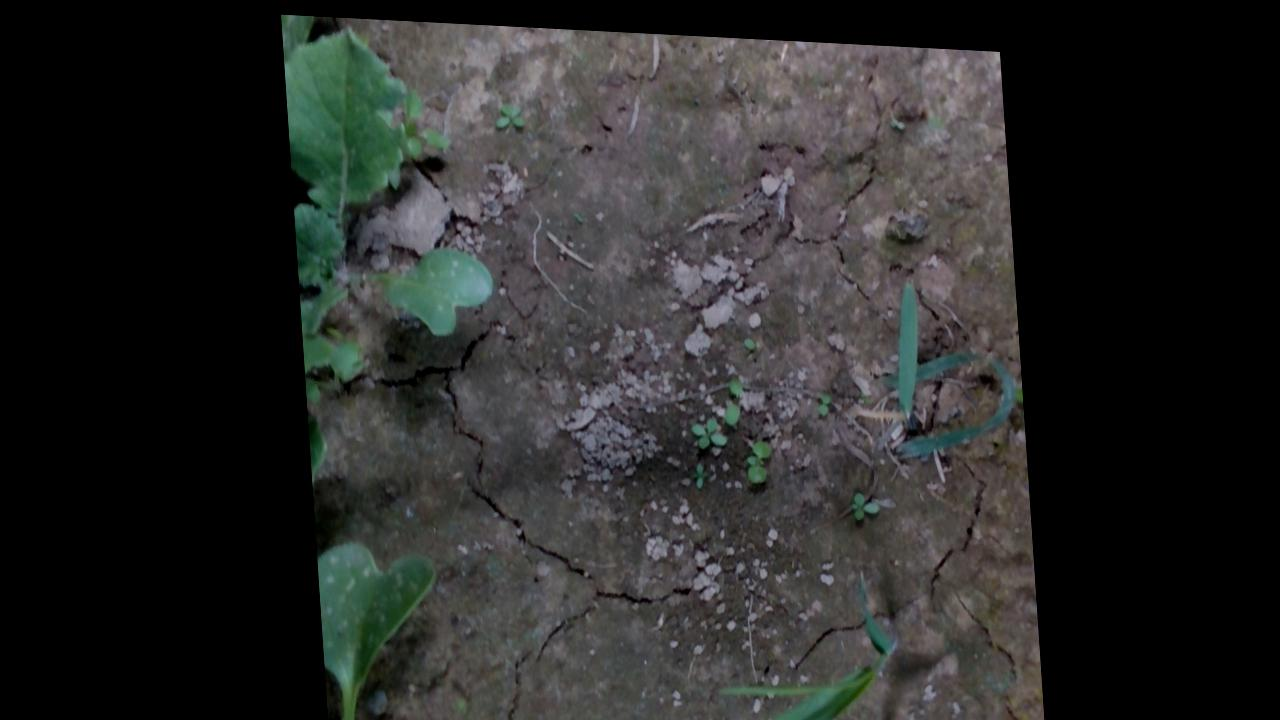weed: (486, 89, 529, 126), (739, 426, 770, 477), (685, 410, 726, 446), (718, 367, 742, 417), (843, 482, 875, 513)
